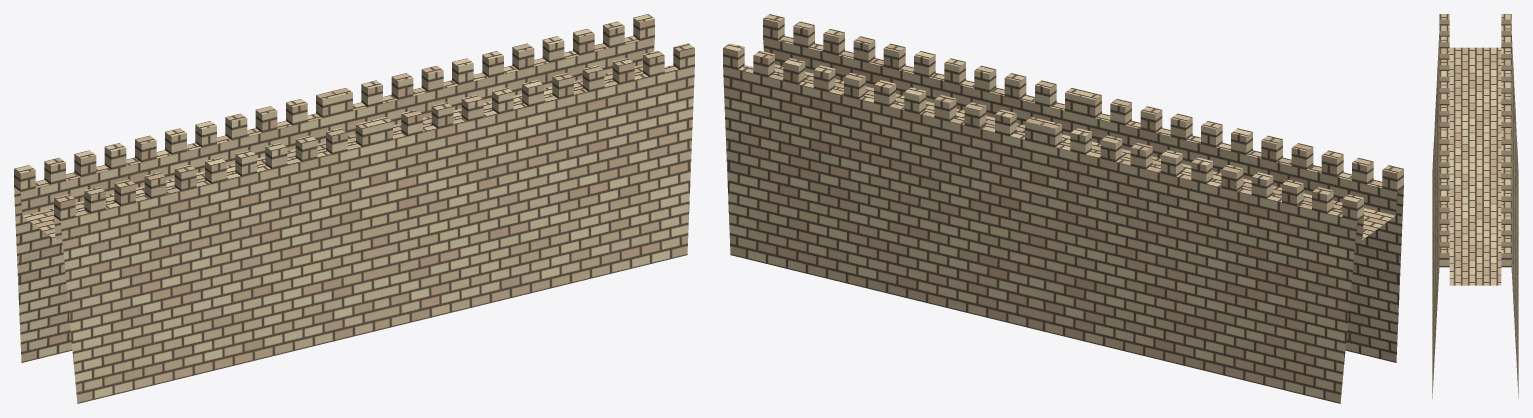
Rendered from 4da6a2ad-551f-4a9c-b617-a4bb6f66ead6.glb.
3 views of the same model, side by side, from view 1: azimuth 30°, elevation 25°; view 2: azimuth 150°, elevation 25°; view 3: azimuth 270°, elevation 25° (orthographic). The views are drawn at different scales.
Parts seen in each view (by area): view 1: CastleWall; view 2: CastleWall; view 3: CastleWall.
Part boxes in pixels (x1,y1,x2,y2): CastleWall: (14,14,694,403); CastleWall: (723,14,1403,403); CastleWall: (1432,14,1518,398).
Size of what is drawn, in the model's own units: 10.92 by 3.3 by 1.67.
1 material, 1 textured.
